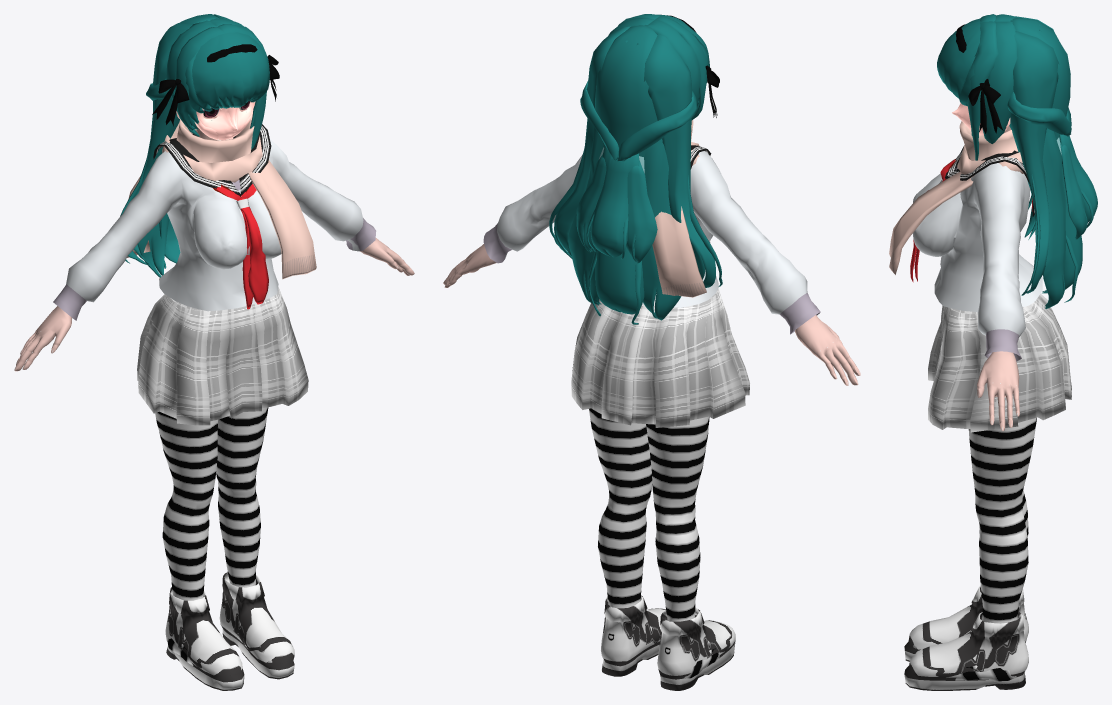
File: 1intro.fbx
3 views of the same model, side by side, from view 1: azimuth 30°, elevation 25°; view 2: azimuth 150°, elevation 25°; view 3: azimuth 270°, elevation 25° (orthographic). The views are drawn at different scales.
Visible parts, largest first — view 1: カスタム少女_mesh; view 2: カスタム少女_mesh; view 3: カスタム少女_mesh.
Part boxes in pixels (left/top/right/bottom): カスタム少女_mesh: left=14, top=14, right=414, bottom=690; カスタム少女_mesh: left=443, top=14, right=860, bottom=690; カスタム少女_mesh: left=889, top=14, right=1097, bottom=690.
Bounding box in the file's own units: 108 × 163 × 47.47.
Materials: 23 (18 with a texture image).
